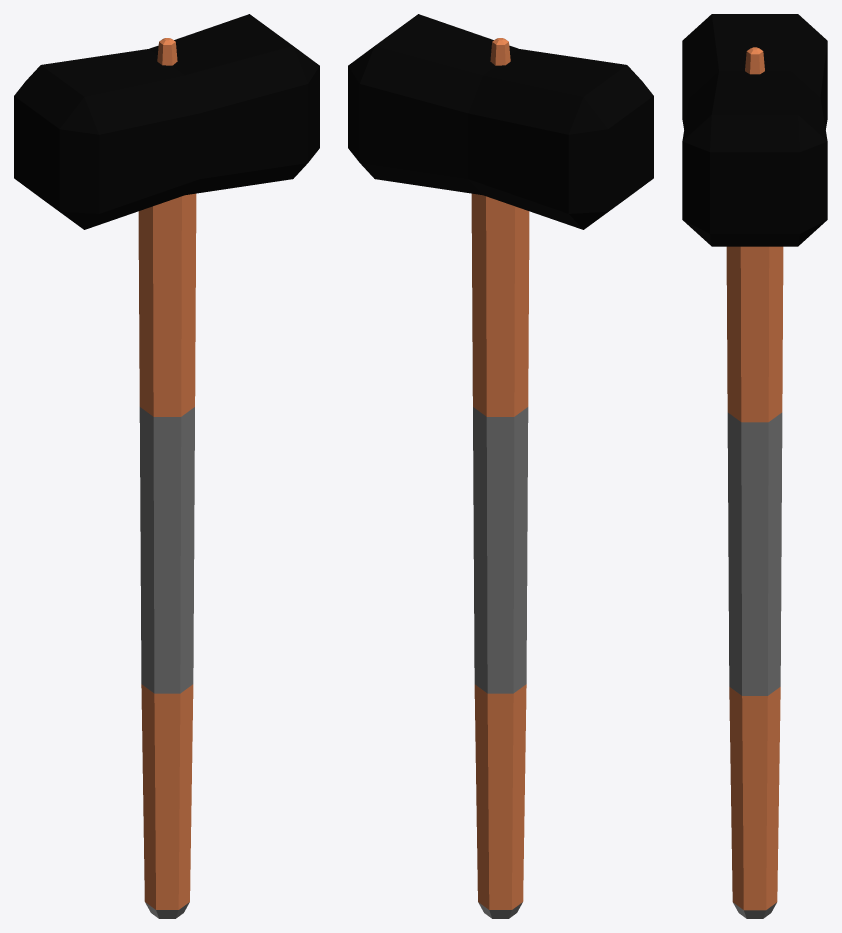
Rendered from Warhammer.fbx.
The picture shows the model from 3 angles, left to right: view 1: azimuth 30°, elevation 25°; view 2: azimuth 150°, elevation 25°; view 3: azimuth 270°, elevation 25°; orthographic projection.
Parts seen in each view (by area): view 1: Cylinder; view 2: Cylinder; view 3: Cylinder.
Part boxes in pixels (x1,y1,x2,y2): Cylinder: (14, 14, 319, 918); Cylinder: (348, 14, 653, 918); Cylinder: (682, 14, 827, 918).
Size of the model in its own units: 172 by 552 by 84.05.
